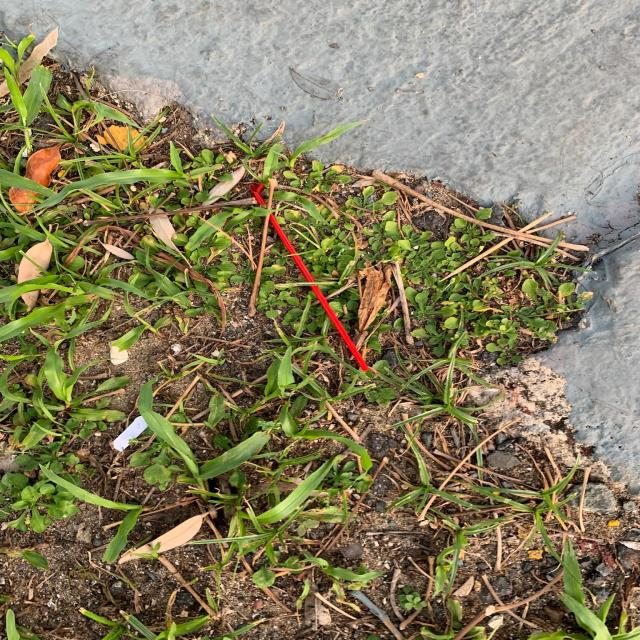litter: (251, 184, 372, 372), (107, 418, 150, 453)
